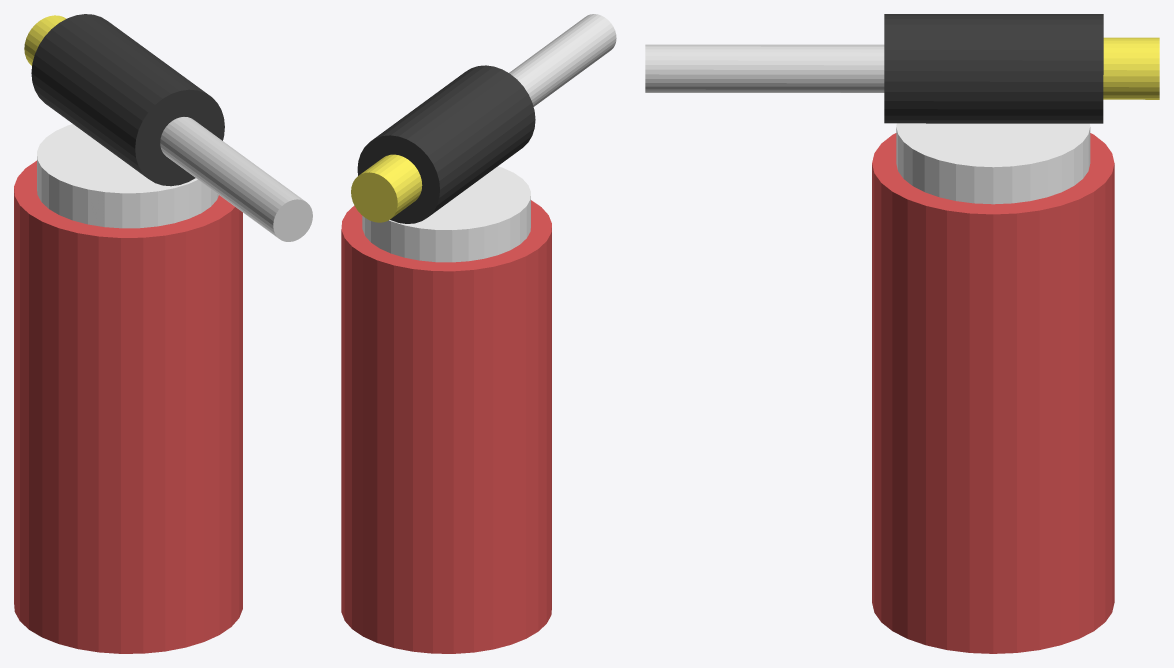
Rendered from burner.fbx.
3 views of the same model, side by side, from view 1: azimuth 30°, elevation 25°; view 2: azimuth 150°, elevation 25°; view 3: azimuth 270°, elevation 25° (orthographic). The views are drawn at different scales.
Parts seen in each view (by area): view 1: GasCylinder, Burner, Adapter, Pipe, Nozzle; view 2: GasCylinder, Burner, Adapter, Pipe, Nozzle; view 3: GasCylinder, Burner, Adapter, Pipe, Nozzle.
Part boxes in pixels (left/top/right/bottom): GasCylinder: left=14, top=160, right=242, bottom=653; Burner: left=31, top=14, right=224, bottom=186; Adapter: left=37, top=124, right=218, bottom=228; Pipe: left=160, top=117, right=312, bottom=241; Nozzle: left=24, top=15, right=66, bottom=65; GasCylinder: left=341, top=200, right=551, bottom=653; Burner: left=357, top=65, right=535, bottom=223; Adapter: left=362, top=166, right=530, bottom=262; Pipe: left=509, top=14, right=616, bottom=106; Nozzle: left=351, top=154, right=422, bottom=222; GasCylinder: left=872, top=133, right=1114, bottom=653; Burner: left=884, top=14, right=1103, bottom=123; Adapter: left=896, top=123, right=1090, bottom=204; Pipe: left=645, top=44, right=884, bottom=92; Nozzle: left=1103, top=37, right=1159, bottom=99.
Bounding box in the file's own units: 100 × 266 × 212.
